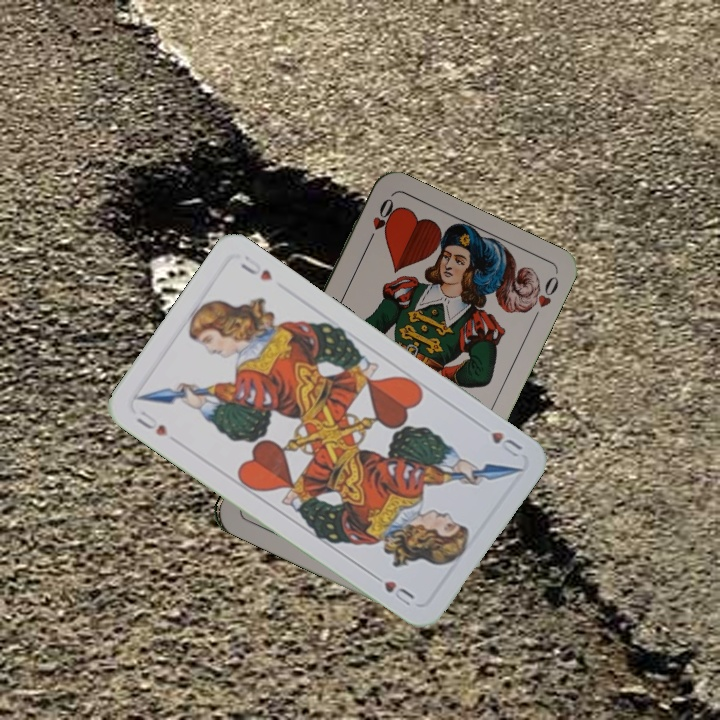HO: (362, 194, 396, 249)
HU: (487, 427, 525, 462), (132, 406, 171, 439)
